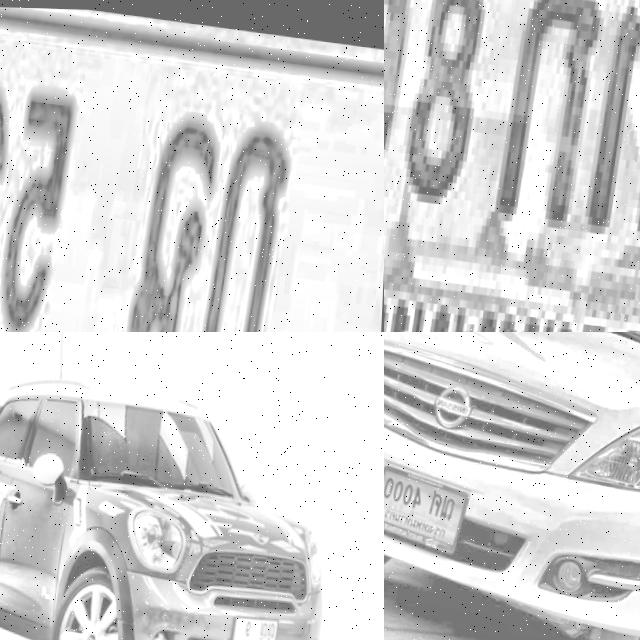license-plate: (0, 0, 384, 332), (384, 0, 640, 332), (384, 458, 476, 557), (227, 600, 289, 640)
